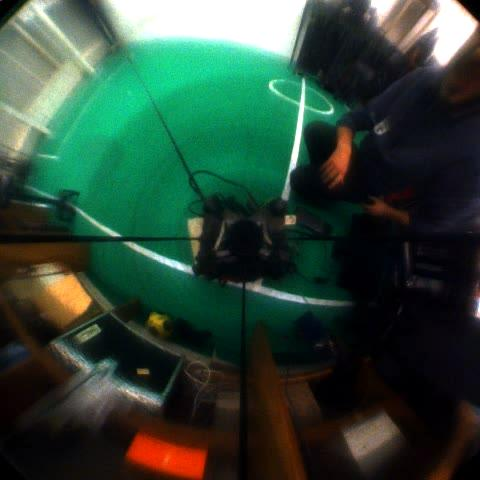ball: (146, 313, 172, 339)
goal: (28, 0, 96, 75)
person: (72, 1, 126, 55)
robot: (0, 141, 36, 185)
